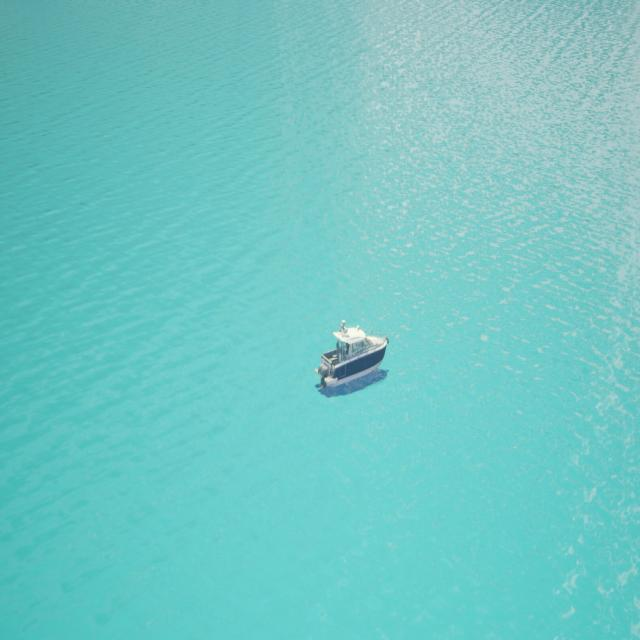ship: (316, 323, 387, 397)
